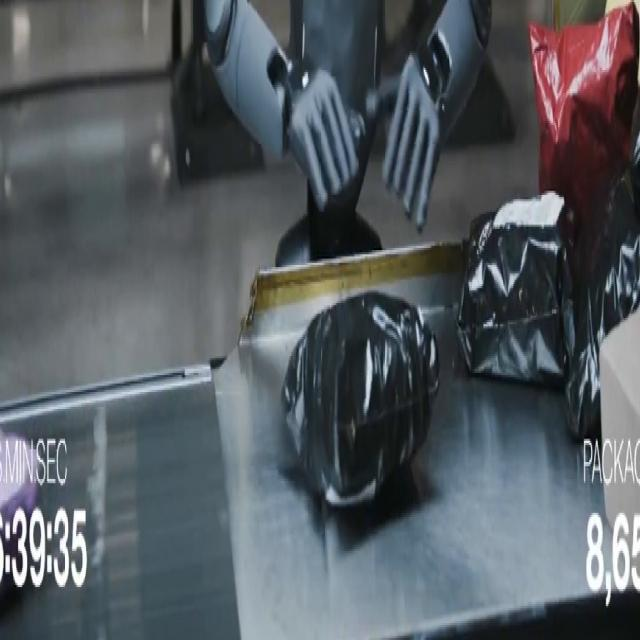package: (282, 293, 439, 506), (530, 5, 639, 235), (458, 193, 574, 387), (566, 179, 639, 440), (586, 312, 639, 529), (0, 431, 37, 559), (553, 0, 606, 29), (630, 128, 639, 218), (605, 0, 639, 14)
